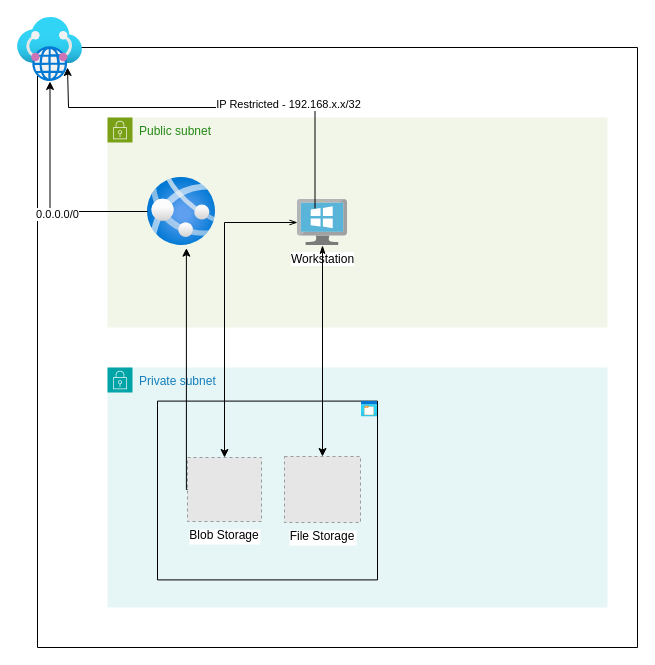
This 655x665 diagram has some shape labels left out. Grey dashed boxes stand in for pictures. The box of each missing label's shape, as (x1, y1, x2, y2) in pixels:
Azure VNet: (17, 17, 82, 81)
Web App for Website: (147, 177, 215, 245)
